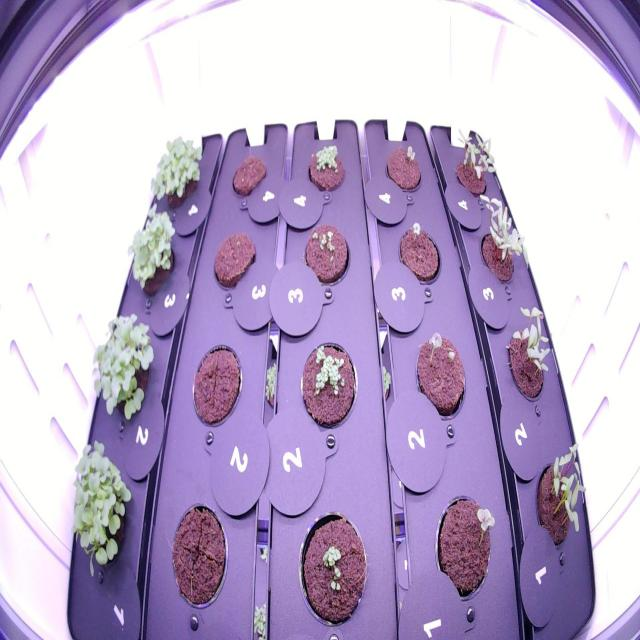germination: (68, 434, 135, 584), (294, 506, 371, 632), (89, 306, 160, 427), (428, 486, 499, 604), (528, 438, 591, 565), (468, 188, 534, 294), (296, 335, 362, 435), (499, 299, 557, 411), (412, 315, 470, 425), (125, 200, 180, 299), (144, 129, 205, 208), (445, 123, 503, 204), (301, 218, 354, 291), (394, 214, 444, 289), (304, 137, 350, 198), (380, 140, 425, 198)
pod: (164, 495, 233, 619), (188, 337, 245, 431), (208, 227, 260, 299), (226, 150, 269, 201)
